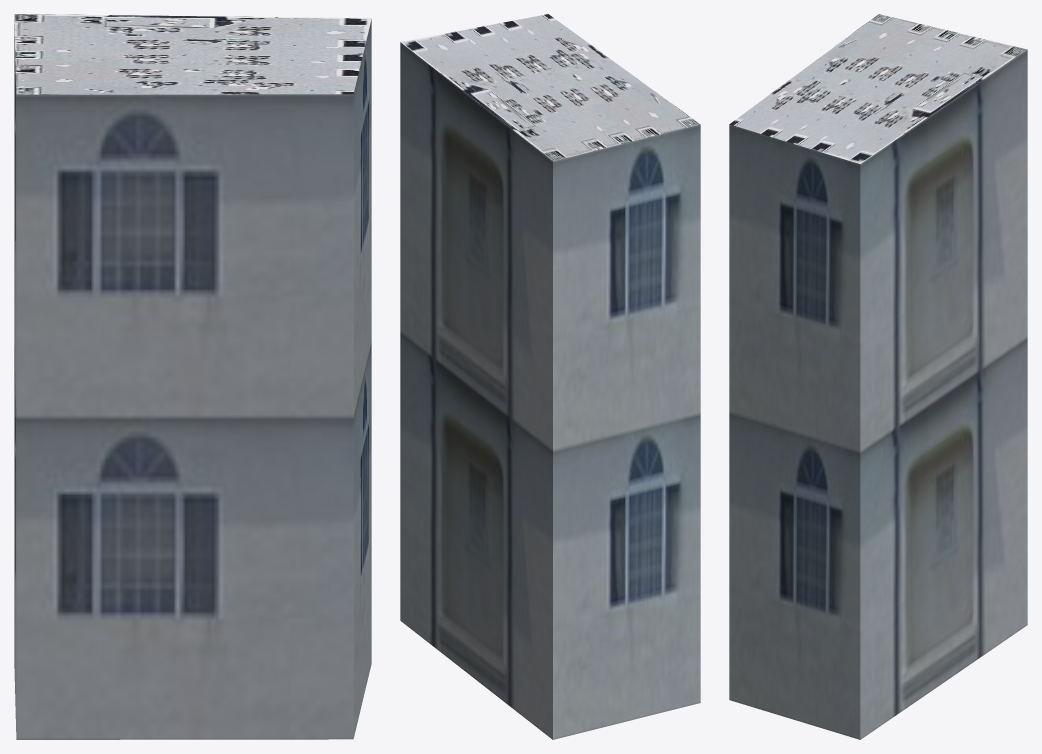
The model's file is ResTex__1066.fbx.
The picture shows the model from 3 angles, left to right: view 1: azimuth 30°, elevation 25°; view 2: azimuth 150°, elevation 25°; view 3: azimuth 270°, elevation 25°; orthographic projection. The views are drawn at different scales.
Visible parts, largest first — view 1: CityEngineMaterial_17_m, CityEngineMaterial_2_m; view 2: CityEngineMaterial_17_m, CityEngineMaterial_2_m; view 3: CityEngineMaterial_17_m, CityEngineMaterial_2_m.
Boxes of the visible parts, box(x1,y1,x2,y2) form: CityEngineMaterial_17_m: box(14, 19, 371, 739); CityEngineMaterial_2_m: box(14, 14, 371, 94); CityEngineMaterial_17_m: box(400, 42, 700, 739); CityEngineMaterial_2_m: box(400, 14, 700, 161); CityEngineMaterial_17_m: box(729, 49, 1027, 739); CityEngineMaterial_2_m: box(729, 14, 1026, 164).
Bounding box in the file's own units: 3.36 × 6 × 2.82.
Materials: 2 (2 with a texture image).
